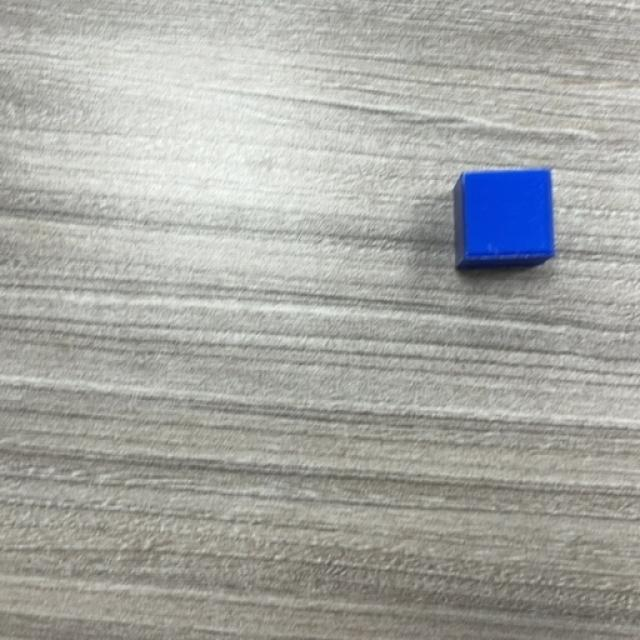Azul: (452, 169, 558, 272)
